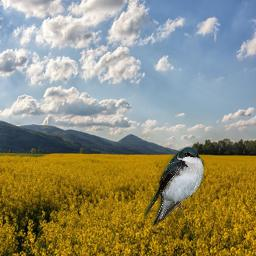Swallow: (144, 144, 206, 226)
